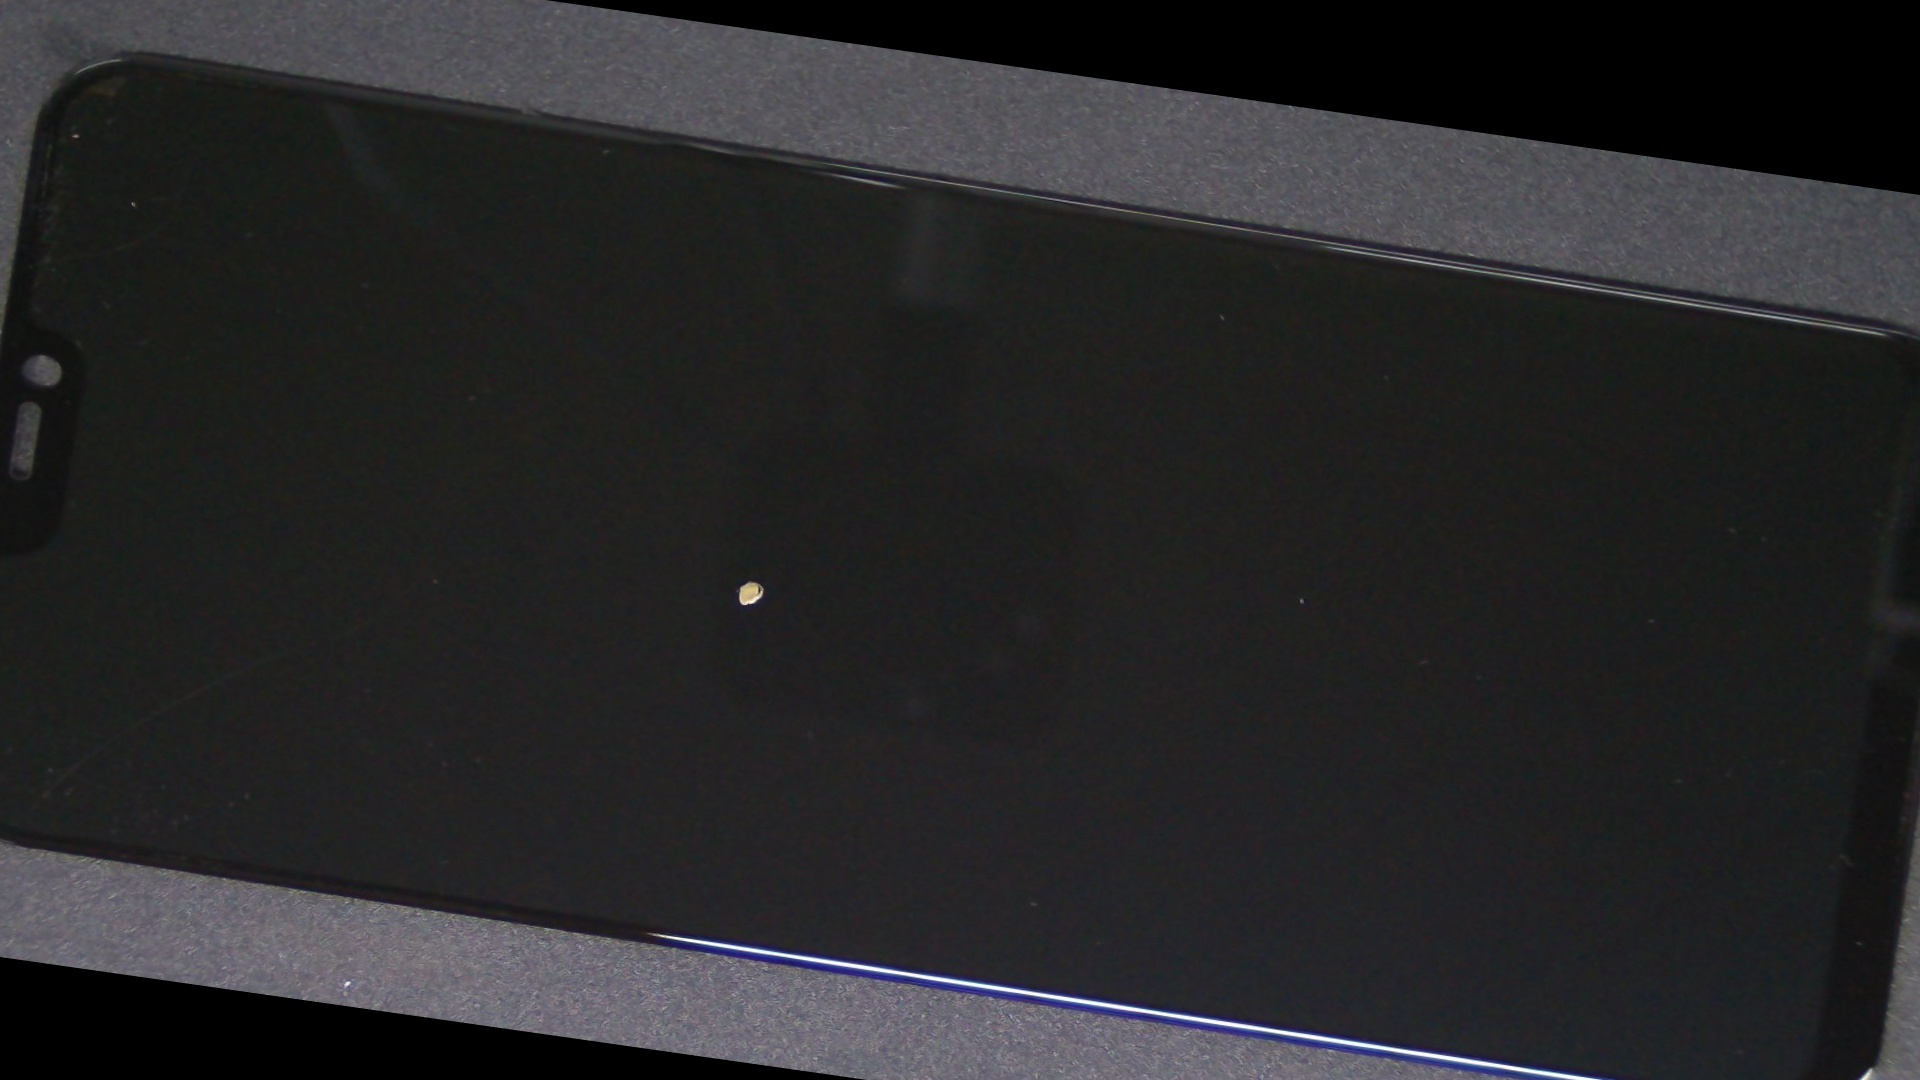oil: (280, 247, 1215, 913)
